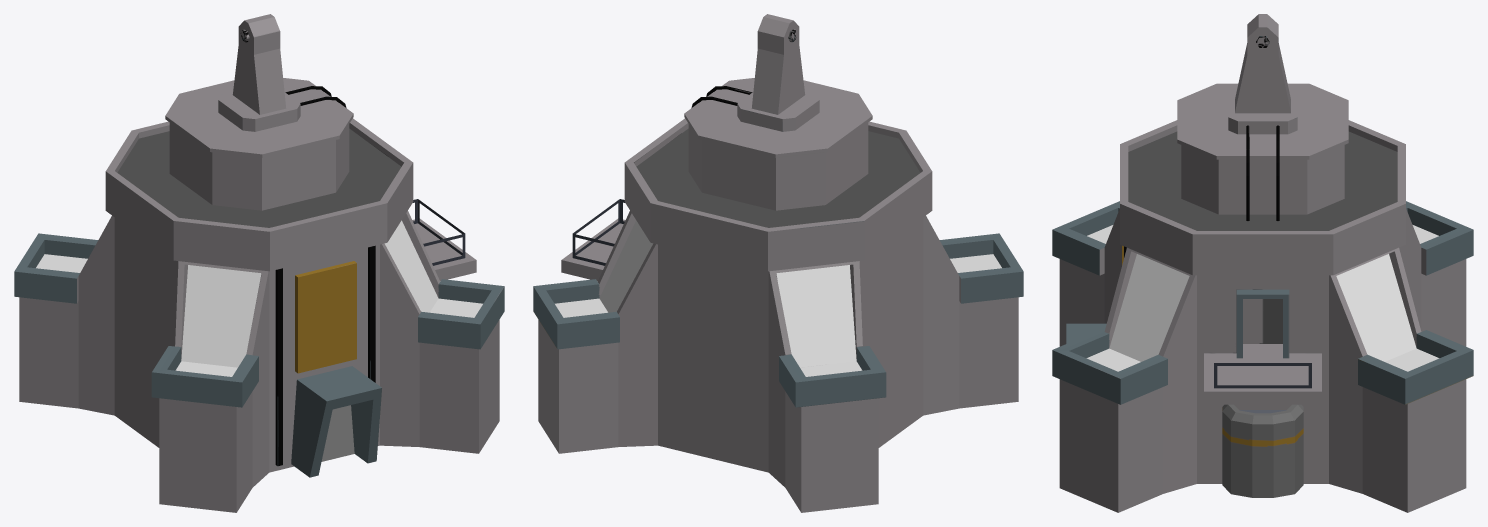
3 renders of one model, left to right at view 1: azimuth 30°, elevation 25°; view 2: azimuth 150°, elevation 25°; view 3: azimuth 270°, elevation 25°, orthographic. The views are drawn at different scales.
Parts seen in each view (by area): view 1: 立方体.032; view 2: 立方体.032; view 3: 立方体.032.
Part boxes in pixels (left/top/right/bottom): 立方体.032: left=14, top=14, right=504, bottom=512; 立方体.032: left=533, top=14, right=1023, bottom=512; 立方体.032: left=1052, top=14, right=1473, bottom=512.
Size of the model in its own units: 249 by 256 by 240.
1 material, 1 textured.
